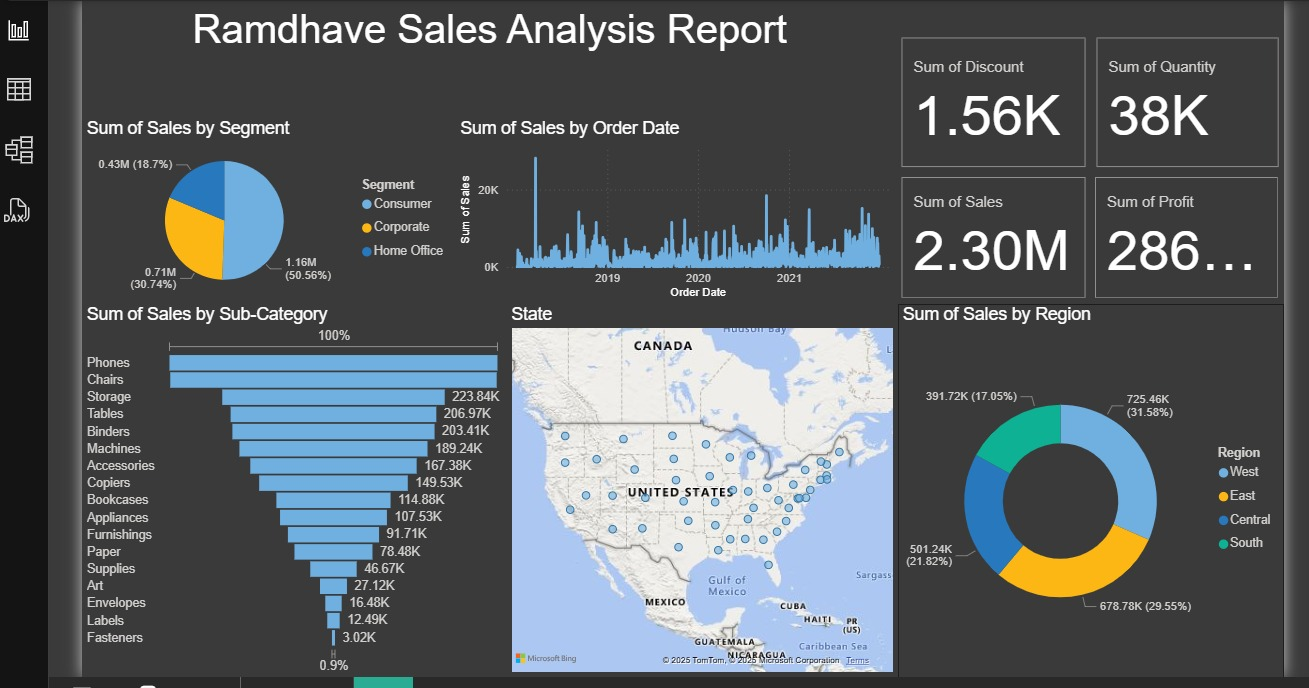

The page's visual inventory and layout, read from the dashboard file:
{"tool":"powerbi","page":{"name":"Page 1","canvas":[1280,720],"ordinal":0},"visuals":[{"type":"donutChart","fields":{"Category":["Orders.Region"],"Y":["Orders.Sales"]},"box":[868.6,322.1,411.5,398.5],"z":0},{"type":"funnel","fields":{"Category":["Orders.Sub-Category"],"Y":["Orders.Sales"]},"box":[0,322.1,452.2,396.9],"z":1},{"type":"map","fields":{"Category":["Orders.State"]},"box":[452.2,322.1,416.4,396.9],"z":2},{"type":"pieChart","fields":{"Category":["Orders.Segment"],"Y":["Orders.Sales"]},"box":[0,125.2,398.5,196.8],"z":3},{"type":"lineChart","fields":{"Category":["Orders.Order Date"],"Y":["Orders.Sales"]},"box":[398.5,125.2,470.1,196.8],"z":4},{"type":"cardVisual","fields":{"Data":["Orders.Sales"]},"box":[868.1,182.1,206.4,139.5],"z":5},{"type":"cardVisual","fields":{"Data":["Orders.Profit"]},"box":[1074.4,182.1,205.2,139.5],"z":6},{"type":"cardVisual","fields":{"Data":["Orders.Discount"]},"box":[868.1,32.8,206.5,148.6],"z":7},{"type":"cardVisual","fields":{"Data":["Orders.Quantity"]},"box":[1074.6,32.8,204.9,148.6],"z":8},{"type":"textbox","box":[0,0,868.6,60.2],"z":9}]}

Visuals, with their boxes in screenshot pixels (x1, y1, x2, y2):
donutChart - Orders.Region x Orders.Sales: 894/263/1282/639
funnel - Orders.Sub-Category x Orders.Sales: 75/263/501/637
map - Orders.State: 501/263/894/637
pieChart - Orders.Segment x Orders.Sales: 75/77/451/263
lineChart - Orders.Order Date x Orders.Sales: 451/77/894/263
cardVisual - Orders.Sales: 894/131/1088/262
cardVisual - Orders.Profit: 1088/131/1282/262
cardVisual - Orders.Discount: 894/0/1088/130
cardVisual - Orders.Quantity: 1088/0/1282/130
textbox: 75/0/894/16
